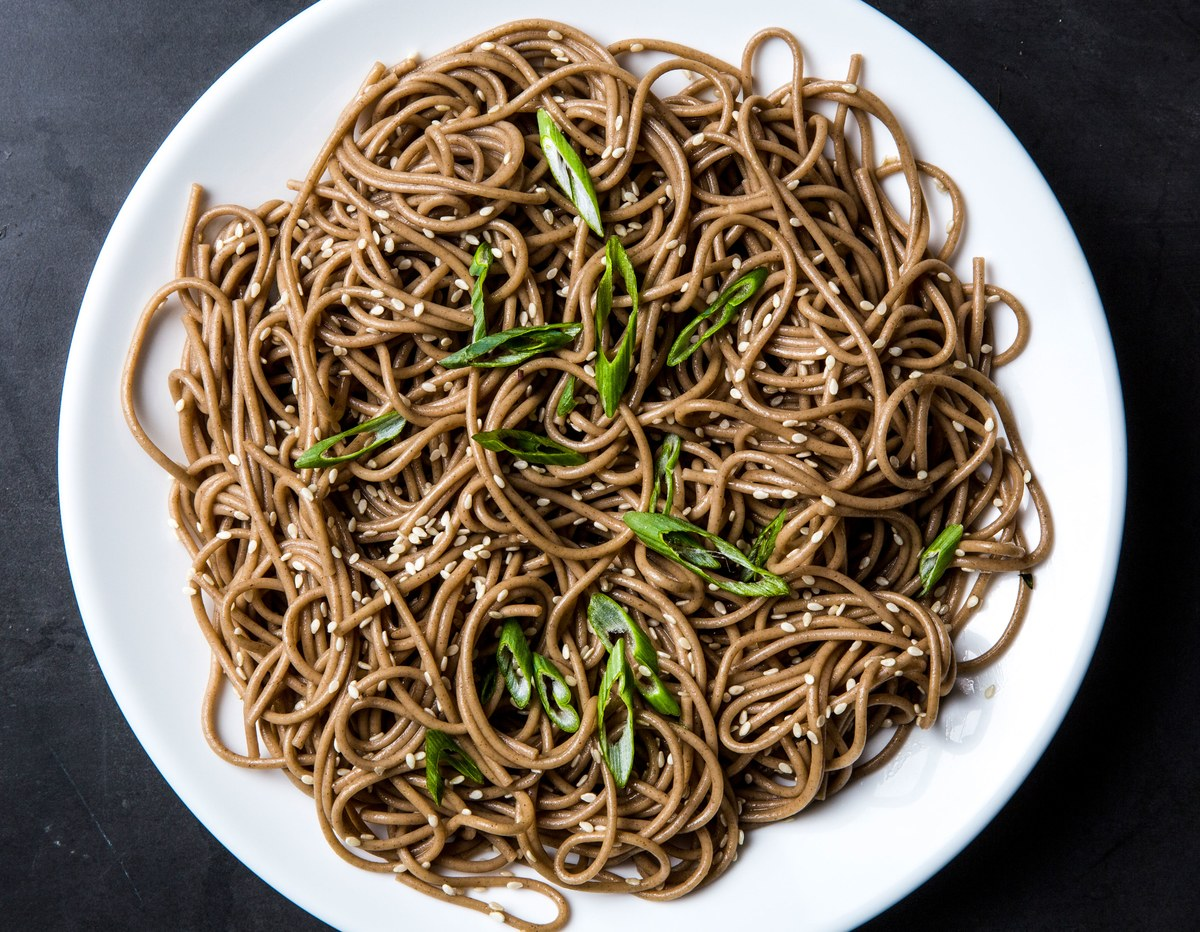Soba: (154, 36, 1056, 893)
